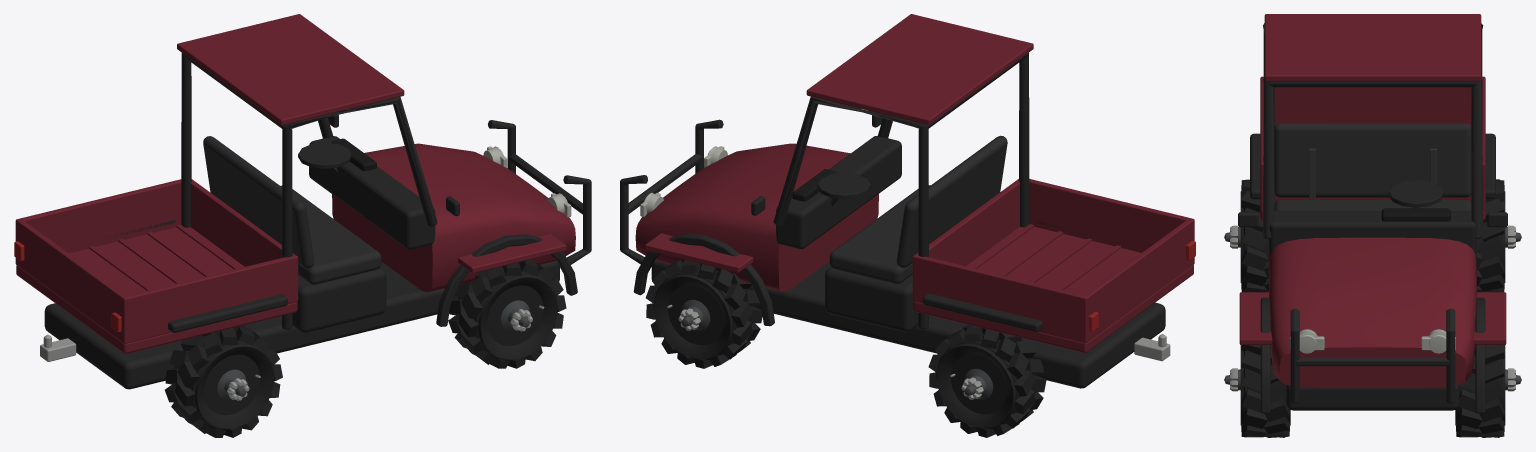
The model's file is SM_Prop_farm_buggy_1.glb.
The picture shows the model from 3 angles, left to right: view 1: azimuth 30°, elevation 25°; view 2: azimuth 150°, elevation 25°; view 3: azimuth 270°, elevation 25°; orthographic projection. The views are drawn at different scales.
Visible parts, largest first — view 1: SM_Prop_farm_buggy_1; view 2: SM_Prop_farm_buggy_1; view 3: SM_Prop_farm_buggy_1.
Part boxes in pixels (x1,y1,x2,y2): SM_Prop_farm_buggy_1: [14, 14, 591, 437]; SM_Prop_farm_buggy_1: [620, 14, 1195, 437]; SM_Prop_farm_buggy_1: [1224, 14, 1521, 437].
Size of the model in its own units: 3.51 by 1.95 by 1.72.
